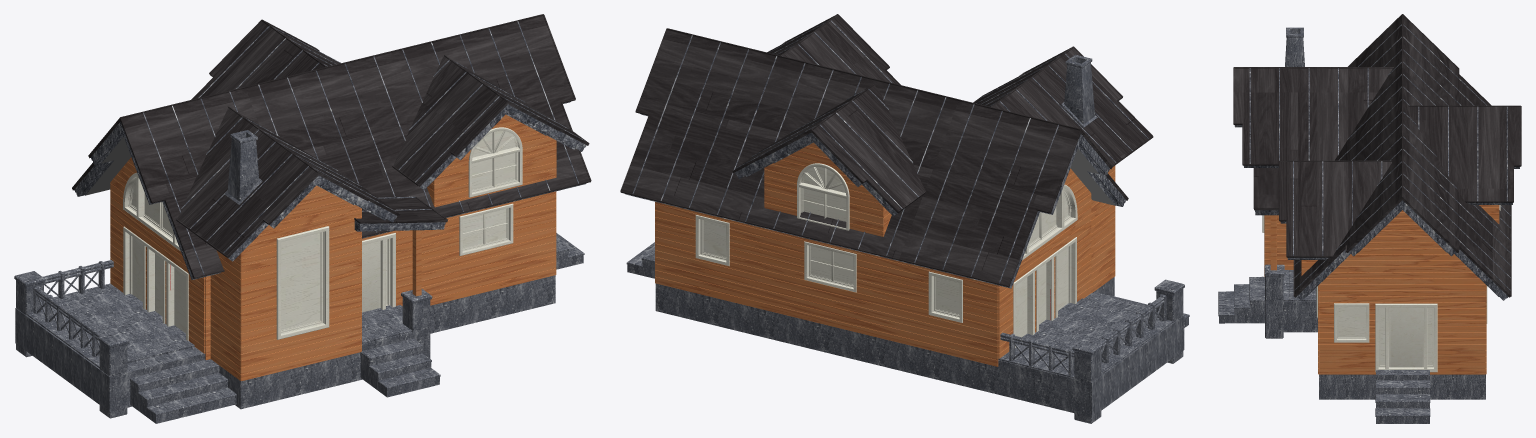
The model's file is villa.obj.
The picture shows the model from 3 angles, left to right: view 1: azimuth 30°, elevation 25°; view 2: azimuth 150°, elevation 25°; view 3: azimuth 270°, elevation 25°; orthographic projection. The views are drawn at different scales.
Visible parts, largest first — view 1: build03; view 2: build03; view 3: build03.
Part boxes in pixels (left/top/right/bottom): build03: left=14, top=14, right=591, bottom=423; build03: left=620, top=14, right=1189, bottom=423; build03: left=1218, top=14, right=1521, bottom=423.
Size of the model in its own units: 582 by 289 by 339.
10 materials, 8 textured.
